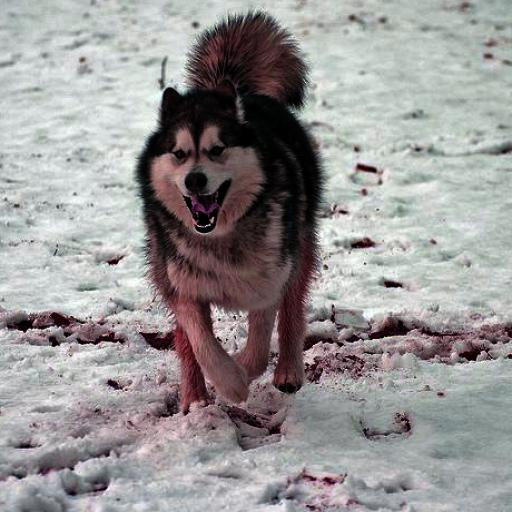dog_face: (155, 80, 256, 237)
